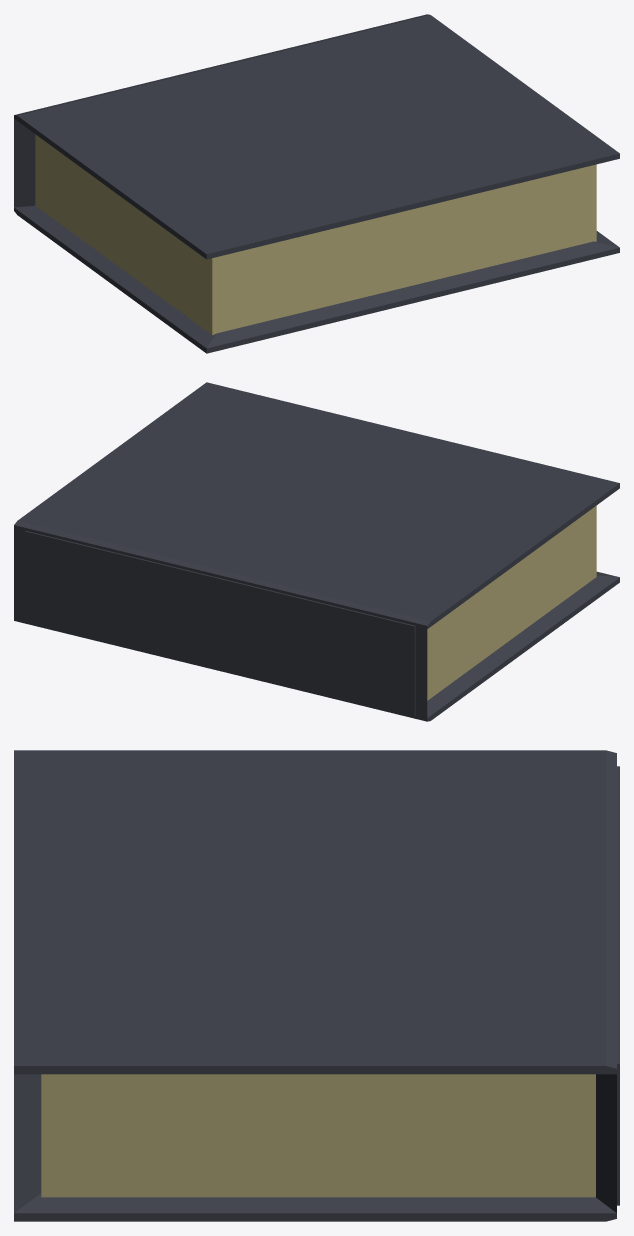
File: book.fbx
3 views of the same model, one above another, from view 1: azimuth 30°, elevation 25°; view 2: azimuth 150°, elevation 25°; view 3: azimuth 270°, elevation 25° (orthographic). The views are drawn at different scales.
Visible parts, largest first — view 1: Cube, Cube.001; view 2: Cube, Cube.001; view 3: Cube, Cube.001.
Boxes of the visible parts, bbox=[...] form: Cube: bbox=[14, 14, 619, 353]; Cube.001: bbox=[35, 134, 596, 335]; Cube: bbox=[14, 382, 619, 721]; Cube.001: bbox=[427, 505, 596, 700]; Cube: bbox=[14, 750, 619, 1221]; Cube.001: bbox=[41, 1074, 595, 1197].
Bounding box in the file's own units: 200 × 45.95 × 162.
